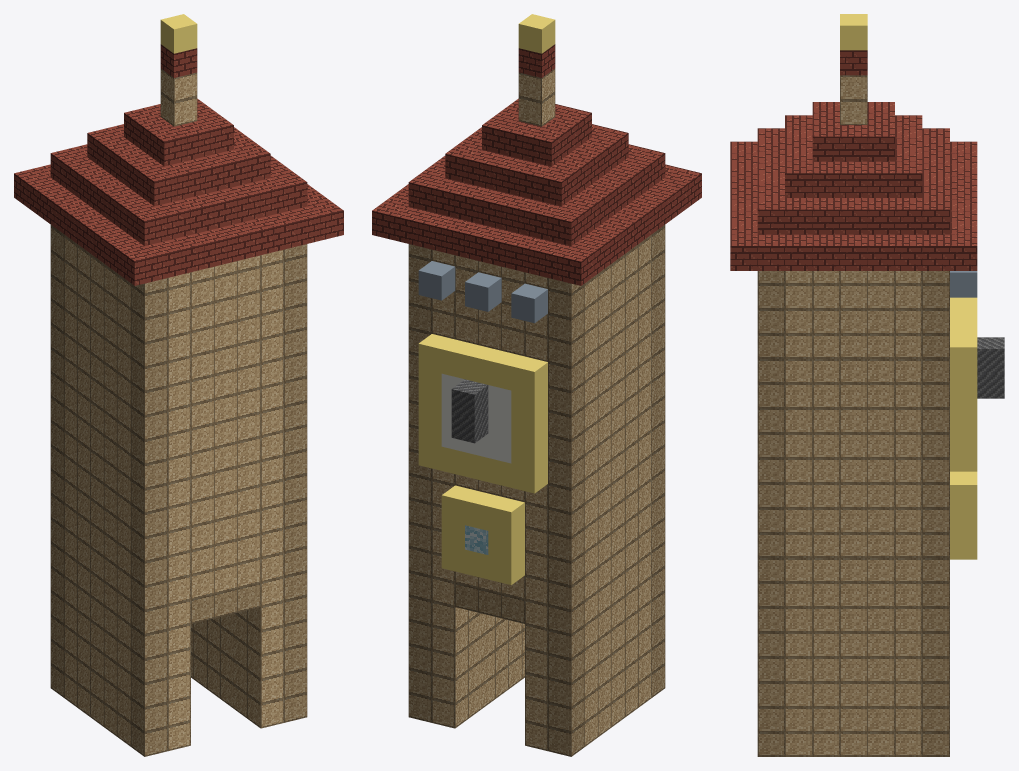
Rendered from zytglogge.glb.
3 views of the same model, side by side, from view 1: azimuth 30°, elevation 25°; view 2: azimuth 150°, elevation 25°; view 3: azimuth 270°, elevation 25° (orthographic). The views are drawn at different scales.
Parts seen in each view (by area): view 1: zytglogge; view 2: zytglogge; view 3: zytglogge.
Boxes of the visible parts, x1=… form: zytglogge: x1=14, y1=14, x2=343, y2=756; zytglogge: x1=372, y1=14, x2=701, y2=756; zytglogge: x1=730, y1=14, x2=1004, y2=756.
Size of the model in its own units: 9 by 28 by 10.
Materials: 1 (1 with a texture image).
